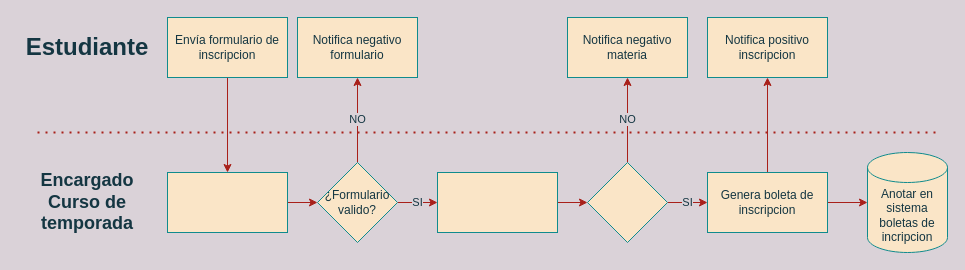
The diagram is 965 pixels wide and 270 high, and some of its shapes have lost their labels. The shapes that lost their labels are listed below. From the top down, each one's centre as x and y in pixels, then its label:
At pixel 227 202: "Verifica formulario de inscripcion".
At pixel 497 202: "Verifica Materia".
At pixel 627 202: "¿Materia valida?".
